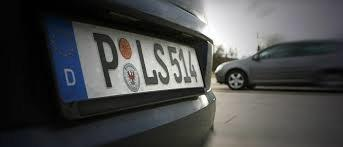license-plates: (74, 22, 204, 98)
